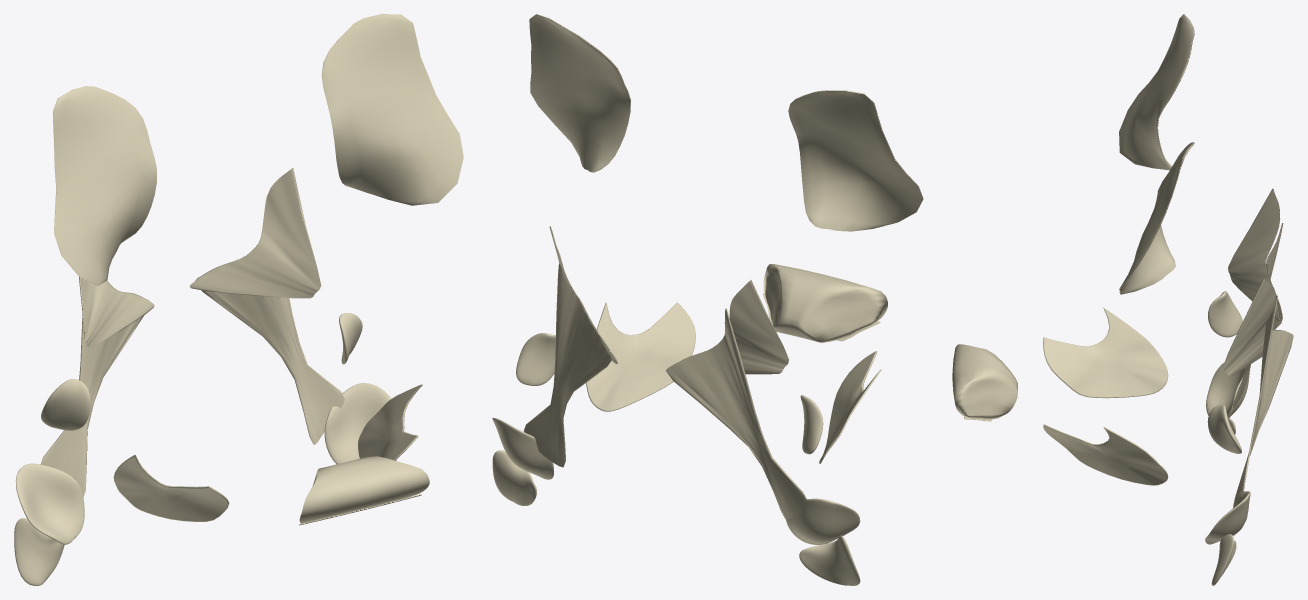
Rendered from joints.pelvis.glb.
The picture shows the model from 3 angles, left to right: view 1: azimuth 30°, elevation 25°; view 2: azimuth 150°, elevation 25°; view 3: azimuth 270°, elevation 25°; orthographic projection. The views are drawn at different scales.
Parts seen in each view (by area): view 1: left_anterior_sacro_iliac_ligament, right_anterior_sacro_iliac_ligament, left_sacrospinous_ligament, left_sacrotuberous_ligament, pubic_symphysis, right_sciatic_bursa_of_gluteus_maximus_muscle, right_obturator_membrane, right_sacrotuberous_ligament, left_sciatic_bursa_of_gluteus_maximus_muscle, right_sacrospinous_ligament, left_obturator_membrane, right_superior_bursa_of_biceps_femoris_muscle (+2 smaller); view 2: right_anterior_sacro_iliac_ligament, left_anterior_sacro_iliac_ligament, right_sacrotuberous_ligament, pubic_symphysis, left_obturator_membrane, left_sacrotuberous_ligament, right_sacrospinous_ligament, right_sciatic_bursa_of_gluteus_maximus_muscle, right_superior_bursa_of_biceps_femoris_muscle, right_obturator_membrane, left_sciatic_bursa_of_gluteus_maximus_muscle, left_sciatic_bursa_of_obturator_internus (+2 smaller); view 3: right_obturator_membrane, right_anterior_sacro_iliac_ligament, pubic_symphysis, left_obturator_membrane, left_anterior_sacro_iliac_ligament, right_sacrospinous_ligament, left_sacrotuberous_ligament, left_sacrospinous_ligament, right_sciatic_bursa_of_gluteus_maximus_muscle, right_sciatic_bursa_of_obturator_internus, left_sciatic_bursa_of_gluteus_maximus_muscle, left_sciatic_bursa_of_obturator_internus (+2 smaller).
Boxes of the visible parts, x1=… form: left_anterior_sacro_iliac_ligament: x1=321, y1=14, x2=463, y2=205; right_anterior_sacro_iliac_ligament: x1=53, y1=86, x2=156, y2=286; left_sacrospinous_ligament: x1=189, y1=168, x2=321, y2=298; left_sacrotuberous_ligament: x1=195, y1=194, x2=344, y2=444; pubic_symphysis: x1=299, y1=456, x2=429, y2=523; right_sciatic_bursa_of_gluteus_maximus_muscle: x1=16, y1=463, x2=84, y2=544; right_obturator_membrane: x1=113, y1=454, x2=229, y2=521; right_sacrotuberous_ligament: x1=40, y1=280, x2=148, y2=497; left_sciatic_bursa_of_gluteus_maximus_muscle: x1=324, y1=383, x2=391, y2=464; right_sacrospinous_ligament: x1=79, y1=276, x2=154, y2=347; left_obturator_membrane: x1=358, y1=384, x2=422, y2=460; right_superior_bursa_of_biceps_femoris_muscle: x1=14, y1=518, x2=64, y2=585; right_anterior_sacro_iliac_ligament: x1=788, y1=90, x2=923, y2=231; left_anterior_sacro_iliac_ligament: x1=529, y1=14, x2=630, y2=172; right_sacrotuberous_ligament: x1=666, y1=308, x2=806, y2=519; pubic_symphysis: x1=763, y1=264, x2=887, y2=342; left_obturator_membrane: x1=586, y1=302, x2=695, y2=411; left_sacrotuberous_ligament: x1=524, y1=263, x2=611, y2=467; right_sacrospinous_ligament: x1=666, y1=280, x2=788, y2=374; right_sciatic_bursa_of_gluteus_maximus_muscle: x1=786, y1=498, x2=860, y2=544; right_superior_bursa_of_biceps_femoris_muscle: x1=799, y1=535, x2=860, y2=585; right_obturator_membrane: x1=819, y1=351, x2=881, y2=463; left_sciatic_bursa_of_gluteus_maximus_muscle: x1=492, y1=417, x2=553, y2=479; left_sciatic_bursa_of_obturator_internus: x1=516, y1=333, x2=555, y2=385; right_obturator_membrane: x1=1043, y1=307, x2=1168, y2=398; right_anterior_sacro_iliac_ligament: x1=1119, y1=14, x2=1194, y2=170; pubic_symphysis: x1=952, y1=344, x2=1017, y2=419; left_obturator_membrane: x1=1043, y1=424, x2=1168, y2=485; left_anterior_sacro_iliac_ligament: x1=1119, y1=142, x2=1194, y2=294; right_sacrospinous_ligament: x1=1228, y1=188, x2=1280, y2=321; left_sacrotuberous_ligament: x1=1233, y1=295, x2=1293, y2=505; left_sacrospinous_ligament: x1=1223, y1=278, x2=1285, y2=376; right_sciatic_bursa_of_gluteus_maximus_muscle: x1=1206, y1=362, x2=1250, y2=418; right_sciatic_bursa_of_obturator_internus: x1=1208, y1=291, x2=1242, y2=337; left_sciatic_bursa_of_gluteus_maximus_muscle: x1=1205, y1=491, x2=1250, y2=544; left_sciatic_bursa_of_obturator_internus: x1=1207, y1=404, x2=1241, y2=453.
Size of the model in its own units: 0.1554 by 0.184 by 0.1329.
